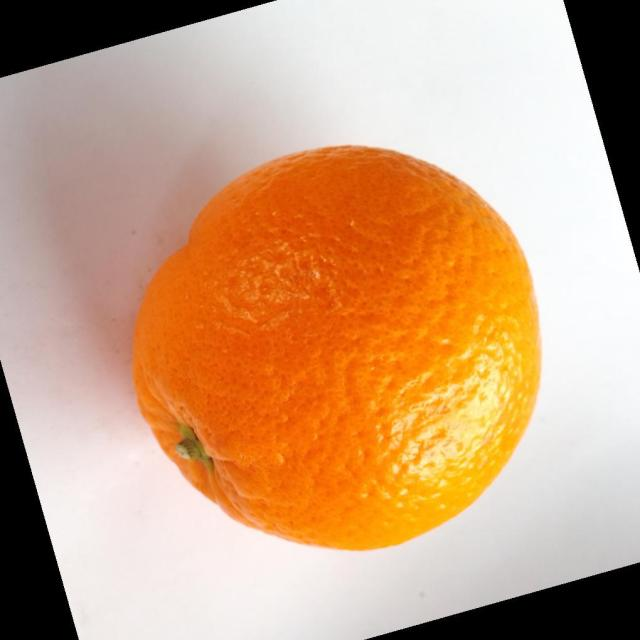fresh orange: (130, 143, 542, 552)
